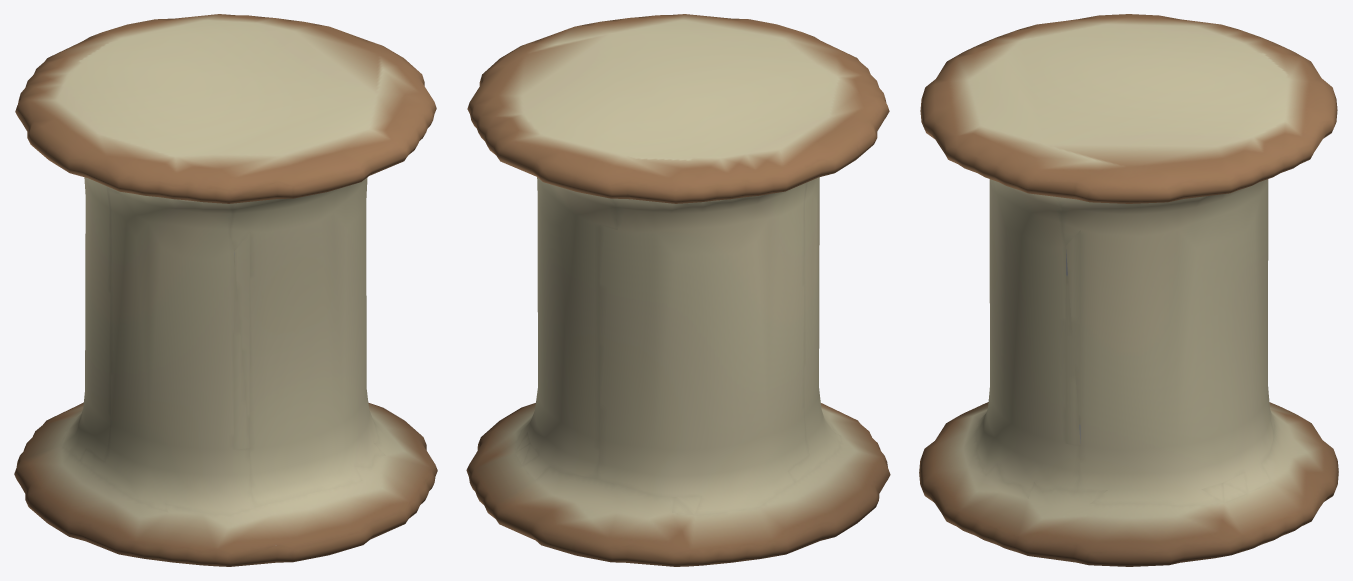
Rendered from item_string.glb.
3 renders of one model, left to right at view 1: azimuth 30°, elevation 25°; view 2: azimuth 150°, elevation 25°; view 3: azimuth 270°, elevation 25°, orthographic.
Parts seen in each view (by area): view 1: string_spool; view 2: string_spool; view 3: string_spool.
Part boxes in pixels (left/top/right/bottom): string_spool: left=14, top=14, right=437, bottom=566; string_spool: left=466, top=14, right=890, bottom=566; string_spool: left=919, top=14, right=1338, bottom=566.
Bounding box in the file's own units: 0.5011 × 0.5199 × 0.5011.
1 material, 1 textured.
